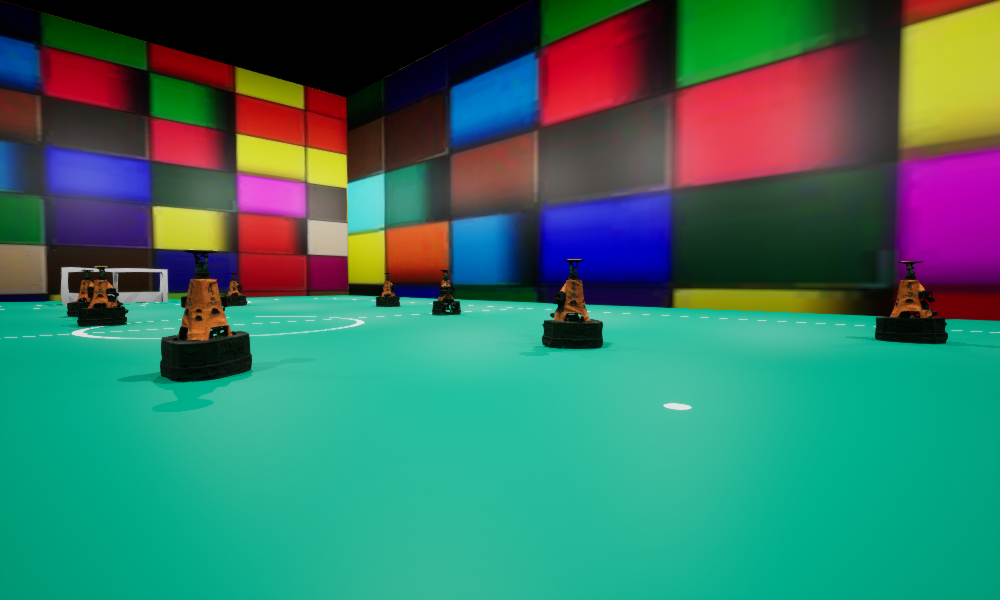o: (160, 249, 251, 381), (875, 261, 947, 343), (542, 259, 602, 348), (77, 266, 128, 326), (67, 269, 105, 316), (432, 270, 460, 314), (376, 273, 399, 306), (225, 273, 246, 305)
